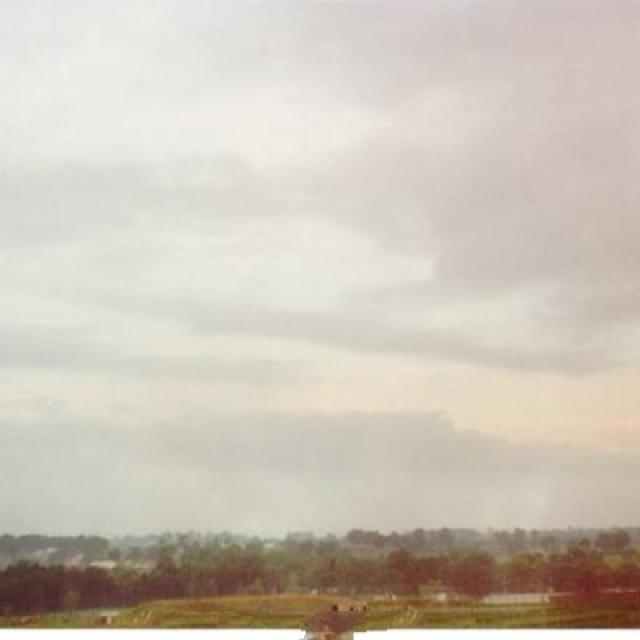St: (7, 44, 640, 453)
